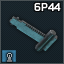AK-105 rear sight 6P44 Sb.1-30: (0, 0, 64, 64)
